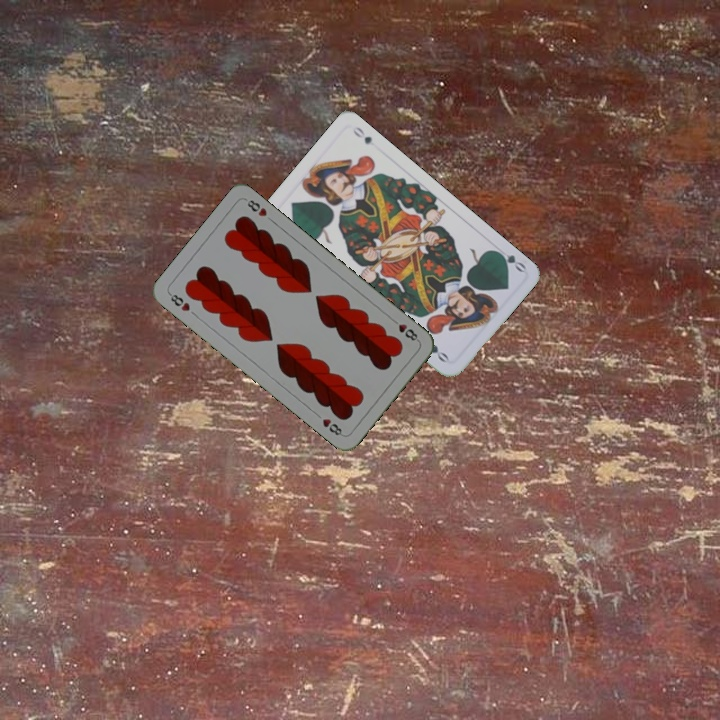GO: (491, 246, 528, 275)
H8: (387, 314, 422, 344), (165, 289, 193, 314)
